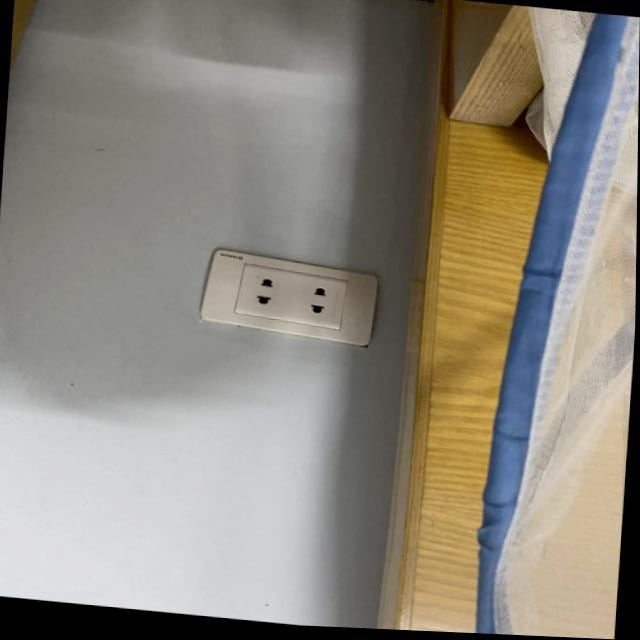outlet: (199, 246, 381, 347)
